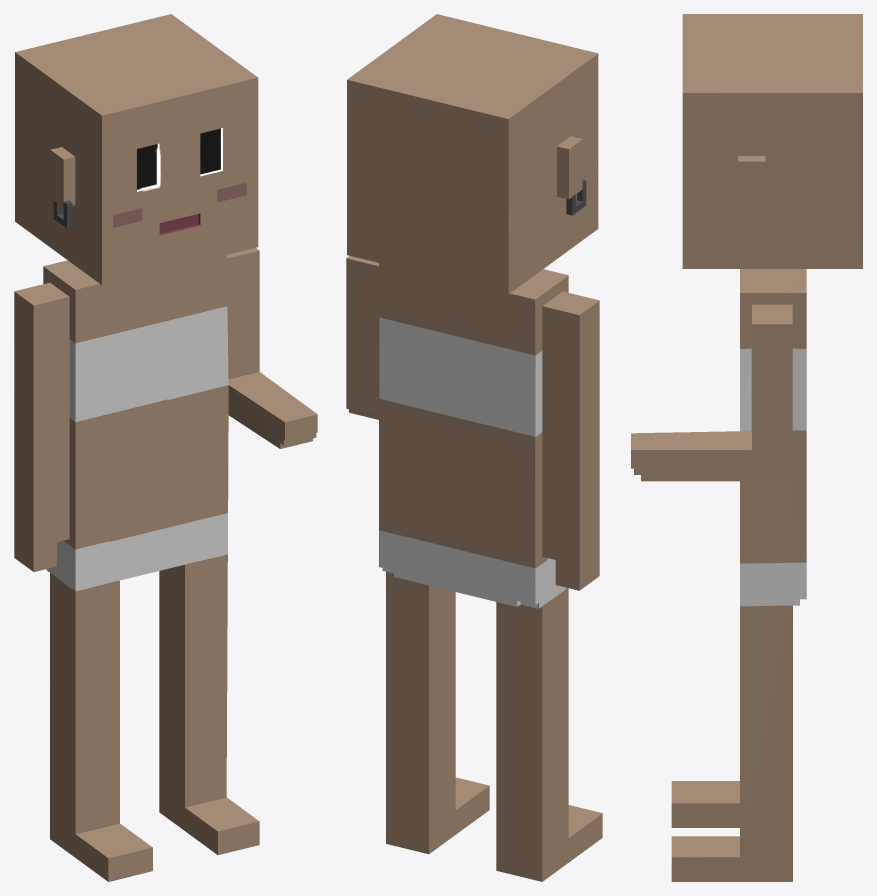
Rendered from female_light.glb.
3 views of the same model, side by side, from view 1: azimuth 30°, elevation 25°; view 2: azimuth 150°, elevation 25°; view 3: azimuth 270°, elevation 25° (orthographic). The views are drawn at different scales.
Visible parts, largest first — view 1: female_light; view 2: female_light; view 3: female_light.
Boxes of the visible parts, x1,y1,x2,y2 form: female_light: [14, 14, 317, 881]; female_light: [346, 14, 602, 881]; female_light: [631, 14, 862, 881].
Bounding box in the file's own units: 3.9 × 12.59 × 3.34.
1 material, 1 textured.
